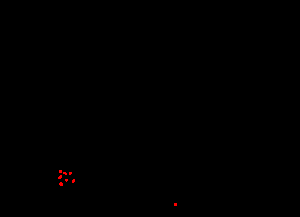Target: (58, 175, 62, 179), (59, 182, 63, 186), (63, 172, 67, 175), (72, 179, 75, 183), (59, 170, 62, 173), (69, 172, 72, 175), (65, 179, 68, 182), (174, 203, 177, 206)
